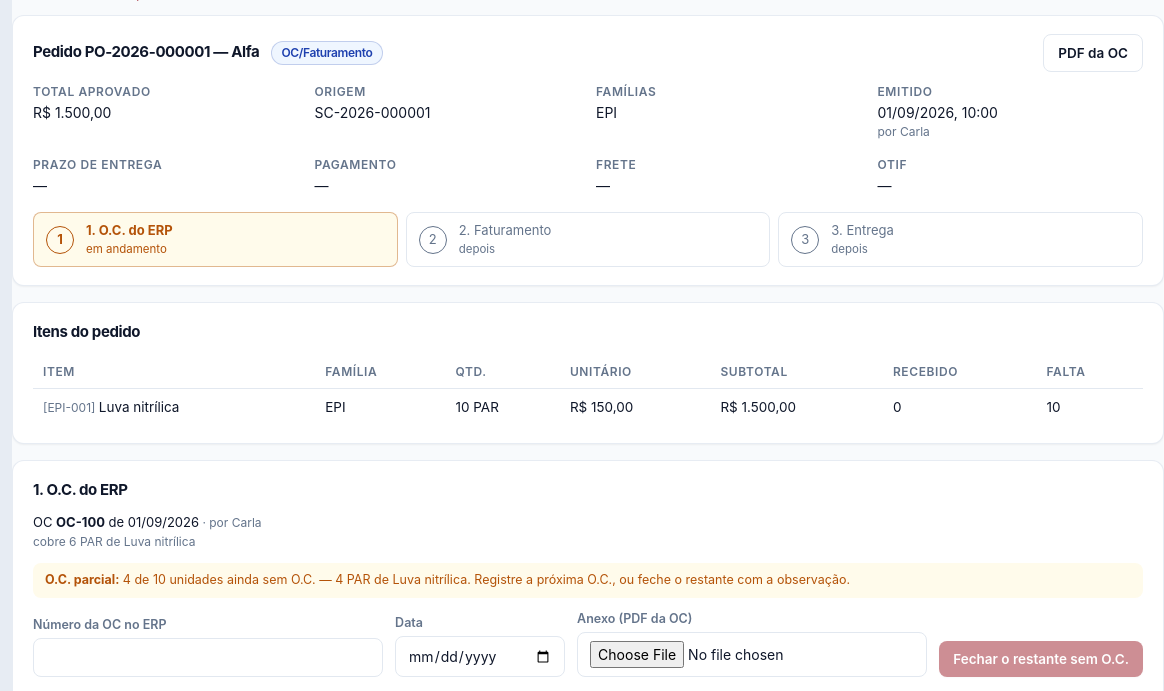
Test case: O.C. parcial: várias O.C.s do ERP no mesmo pedido › cobrir mais do que falta trava o botão antes de o servidor recusar (PO-ERR-059)
In the field labelled "Número da OC no ERP": point(208, 658) [33,638,383,677], type "OC-101"
(page scrolled)
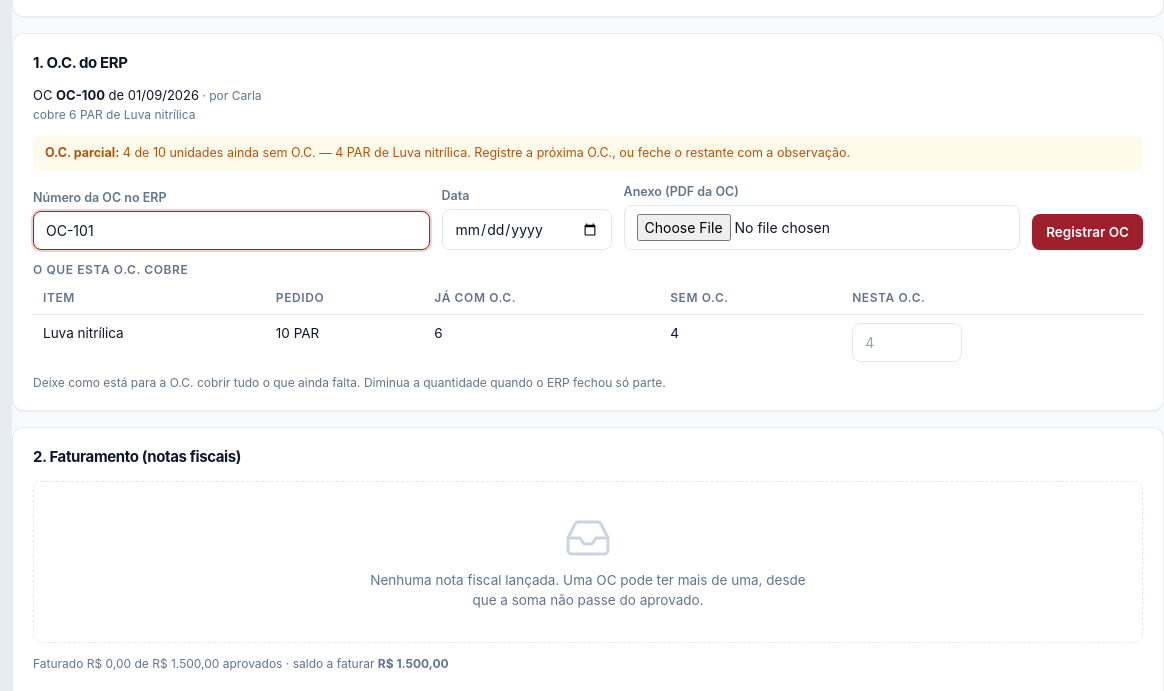
In the number field named "Nesta O.C.: Luva nitrílica": point(907, 343) [852,323,962,362], type "5"
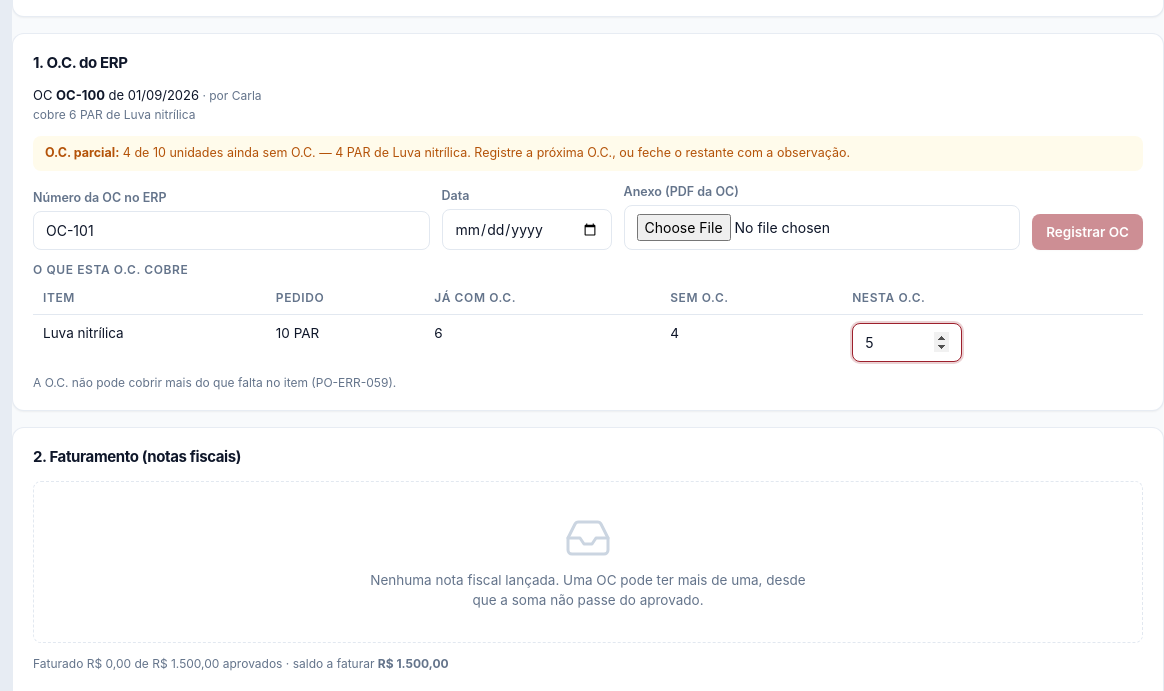
Expected: the element with test id "ocs-do-erp" shows "PO-ERR-059", [33,375,396,390]
Expected: the button "Registrar OC" is disabled, [1032,214,1143,250]
